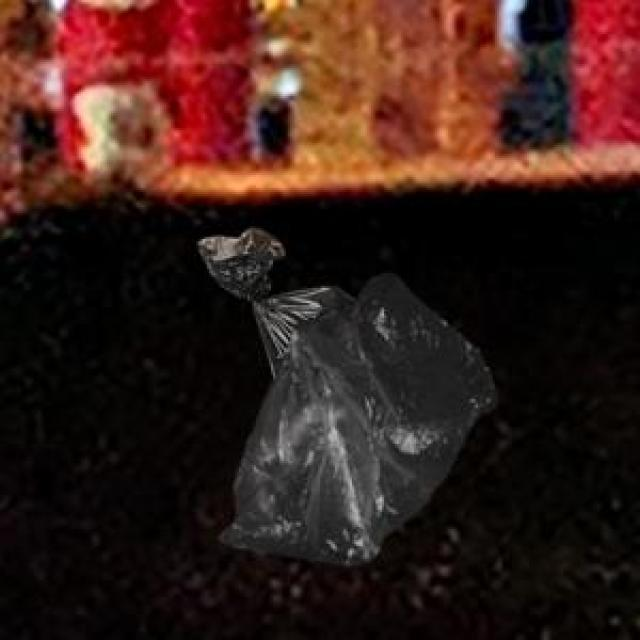miscellaneous trash: (194, 224, 350, 371)
